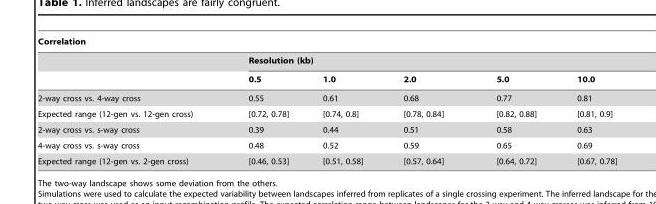table: (37, 36, 616, 165)
table column: (37, 36, 219, 165), (382, 36, 469, 165), (469, 36, 556, 165), (219, 36, 305, 165), (305, 36, 382, 165), (556, 36, 616, 165)
table column header: (37, 36, 616, 88)
table row: (37, 50, 616, 69), (37, 69, 616, 88), (37, 88, 616, 105), (37, 105, 616, 121), (37, 121, 616, 137), (37, 137, 616, 153), (37, 36, 616, 50), (37, 153, 616, 165)
table spanning cell: (37, 36, 616, 50), (219, 50, 616, 69)
